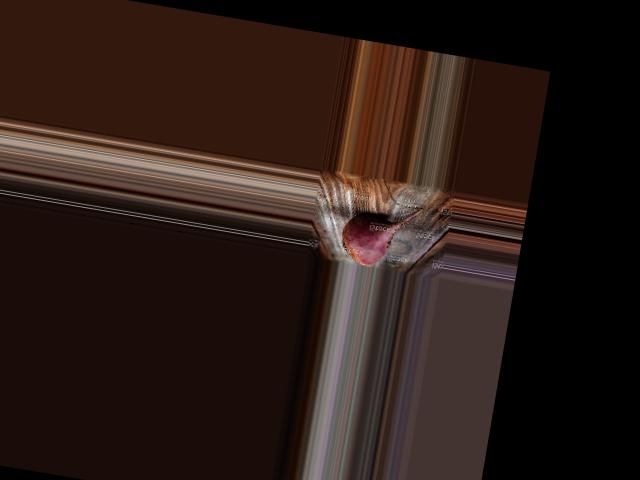beet: (338, 196, 423, 273)
